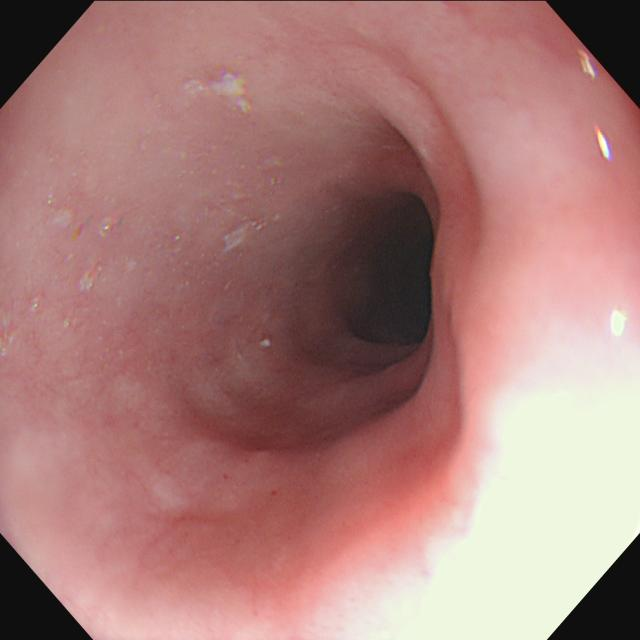E: (344, 192, 441, 354)
J: (185, 70, 254, 120)
U: (595, 123, 613, 166), (609, 307, 628, 338)
